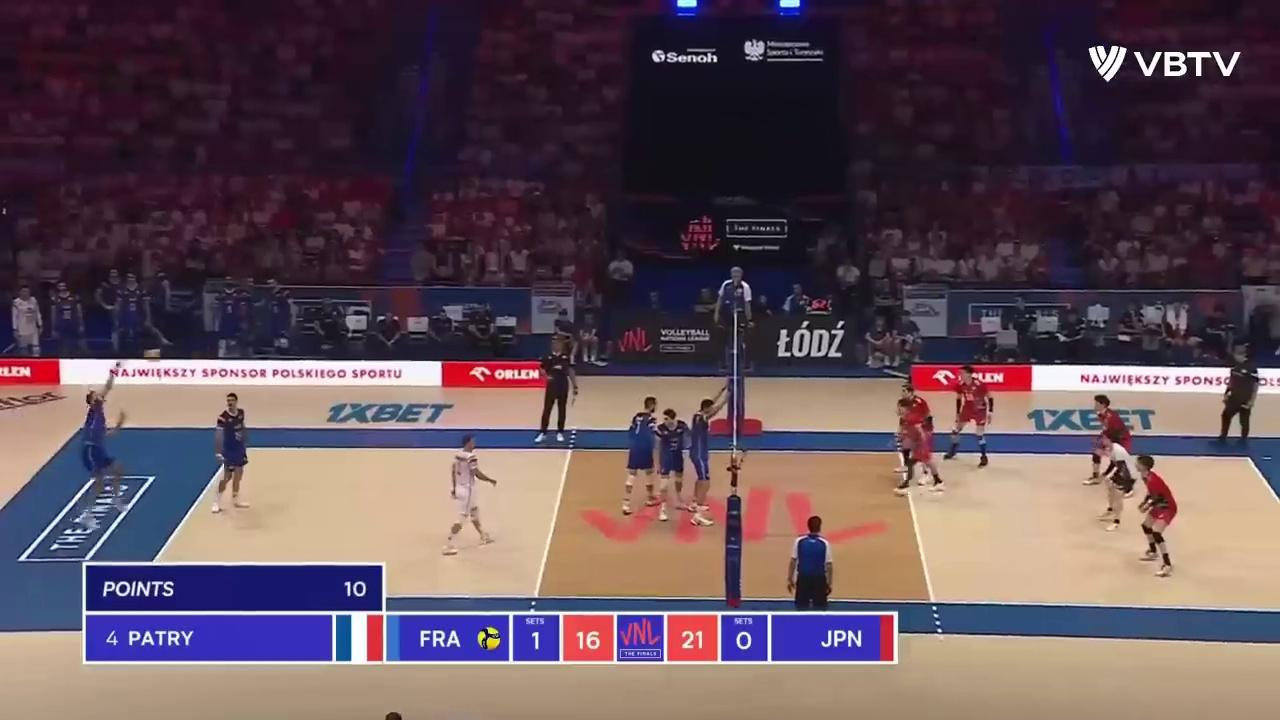ball: (142, 347, 160, 360)
